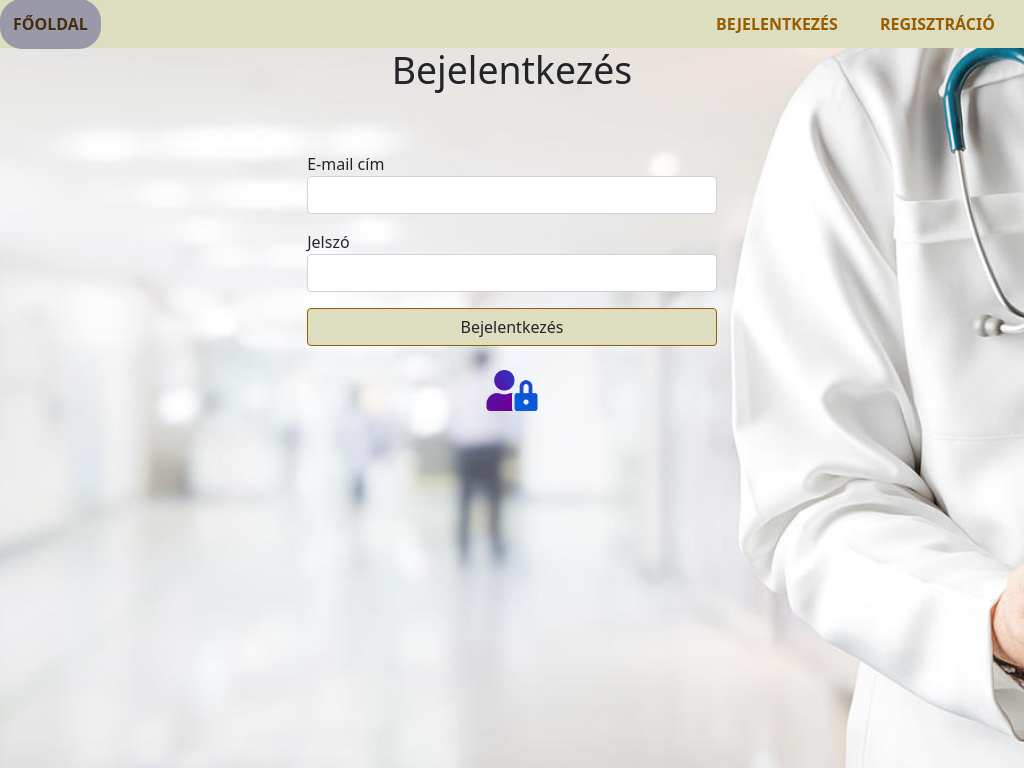
Test: Pursuit to Login page › has an error message if the email address is incorrect
This screenshot has width=1024, height=768.
Type "abcd" into the field labelled "E-mail cím" at (512, 195), box [307,176,717,214]
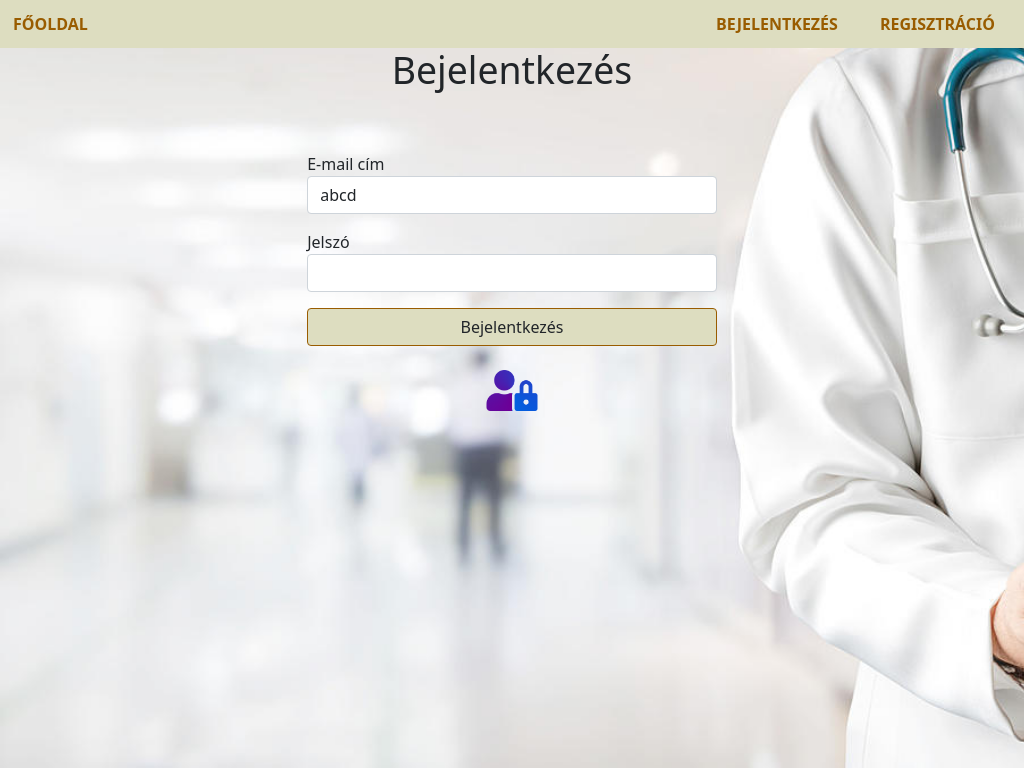
Leave the field labelled "E-mail cím", box [307,176,717,214]
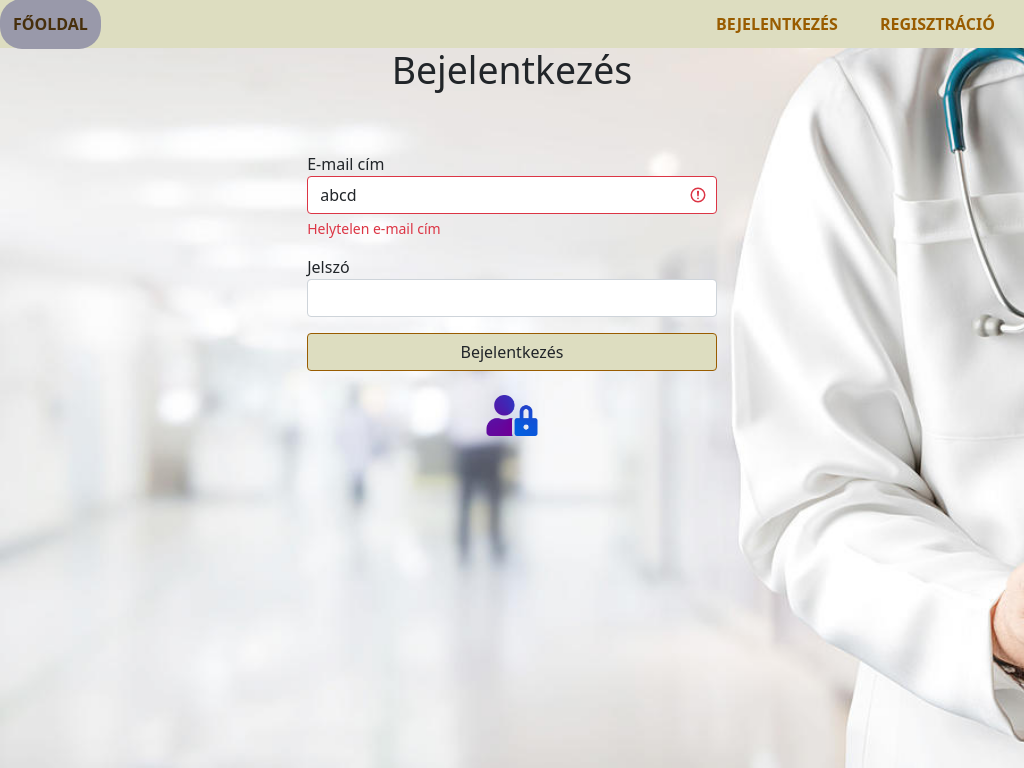
Result: the text "Helytelen e-mail cím" is shown at [307,219,441,238]
